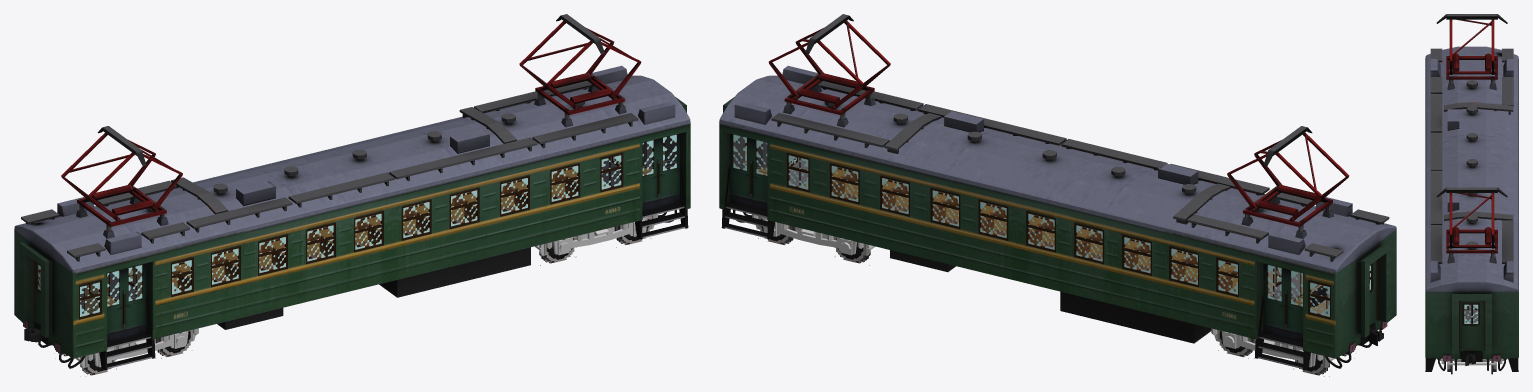
Rendered from mvp_ir_sr3m.obj.
The picture shows the model from 3 angles, left to right: view 1: azimuth 30°, elevation 25°; view 2: azimuth 150°, elevation 25°; view 3: azimuth 270°, elevation 25°; orthographic projection. The views are drawn at different scales.
Visible parts, largest first — view 1: FRAME_sr3, BOGEY_REAR_sr3, BOGEY_FRONT_sr3; view 2: FRAME_sr3, BOGEY_REAR_sr3, BOGEY_FRONT_sr3; view 3: FRAME_sr3, BOGEY_REAR_sr3, BOGEY_REAR_WHEEL_2_sr3.
Boxes of the visible parts, x1,y1,x2,y2 form: FRAME_sr3: (14,14,690,370); BOGEY_REAR_sr3: (534,214,657,255); BOGEY_FRONT_sr3: (52,328,198,367); FRAME_sr3: (719,14,1396,370); BOGEY_REAR_sr3: (752,214,875,255); BOGEY_FRONT_sr3: (1211,328,1357,367); FRAME_sr3: (1425,14,1518,371); BOGEY_REAR_sr3: (1439,358,1504,368); BOGEY_REAR_WHEEL_2_sr3: (1446,359,1497,374).
Bounding box in the file's own units: 20.61 × 6.56 × 3.33.
